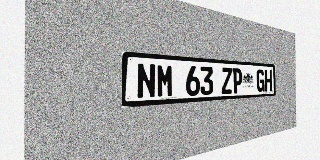3: (200, 66, 213, 95)
6: (186, 65, 200, 96)
G: (256, 69, 264, 92)
H: (264, 70, 272, 92)
M: (156, 64, 174, 98)
N: (136, 63, 156, 99)
P: (232, 68, 242, 93)
Z: (221, 67, 232, 94)
